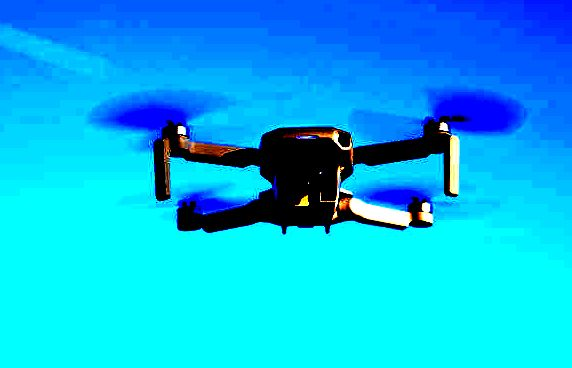Drone: (81, 85, 533, 235)
